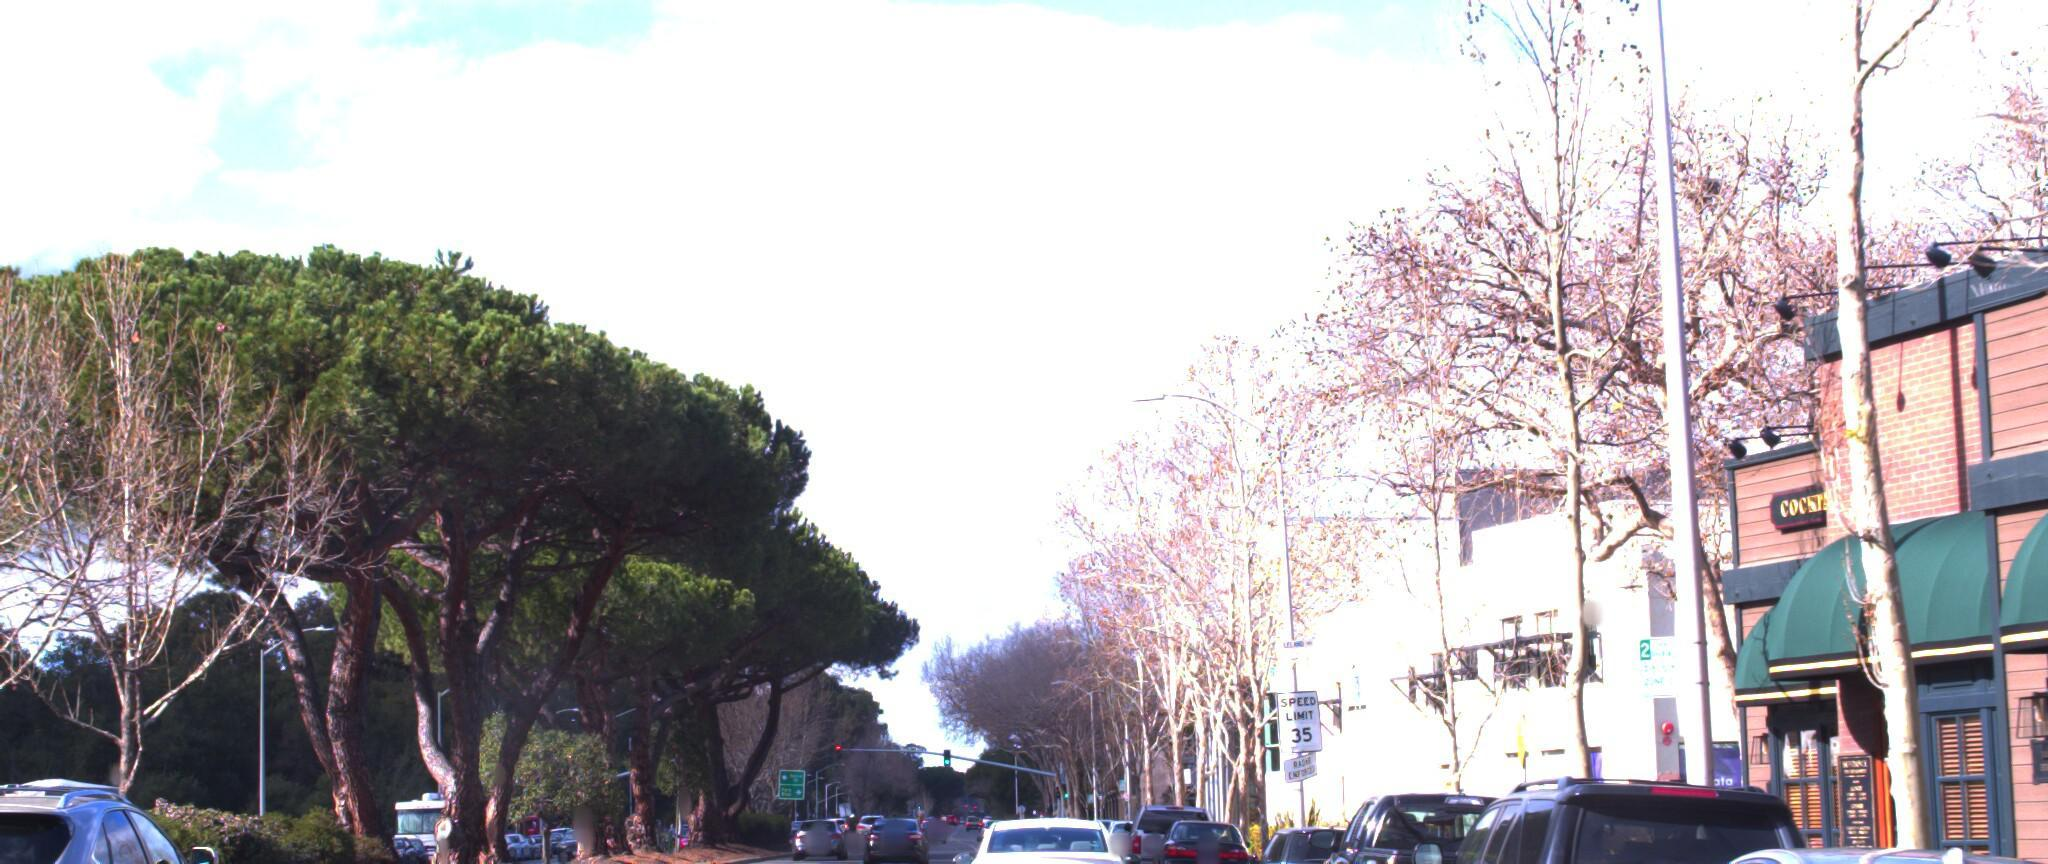car: (1364, 760, 1860, 864), (1311, 761, 1616, 864), (0, 750, 273, 864), (1543, 821, 2048, 864), (0, 821, 498, 864), (964, 787, 1142, 864), (1236, 801, 1405, 864), (1126, 779, 1228, 864), (1153, 796, 1254, 864)
